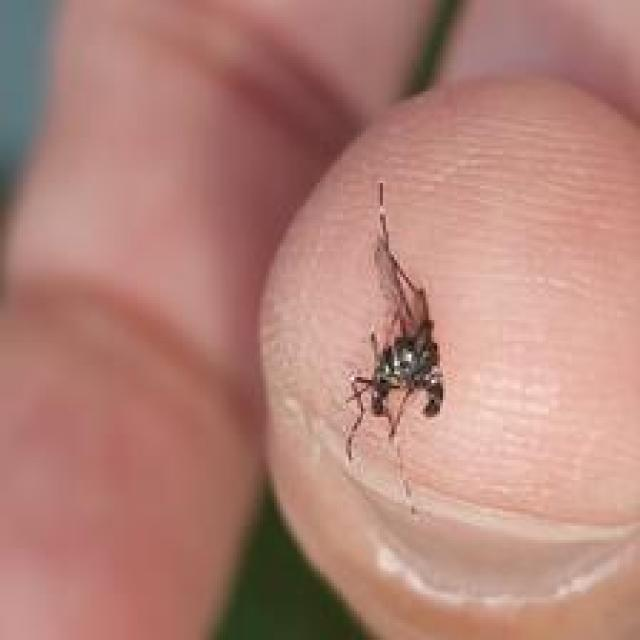Aedes albopictus: (340, 178, 449, 513)
